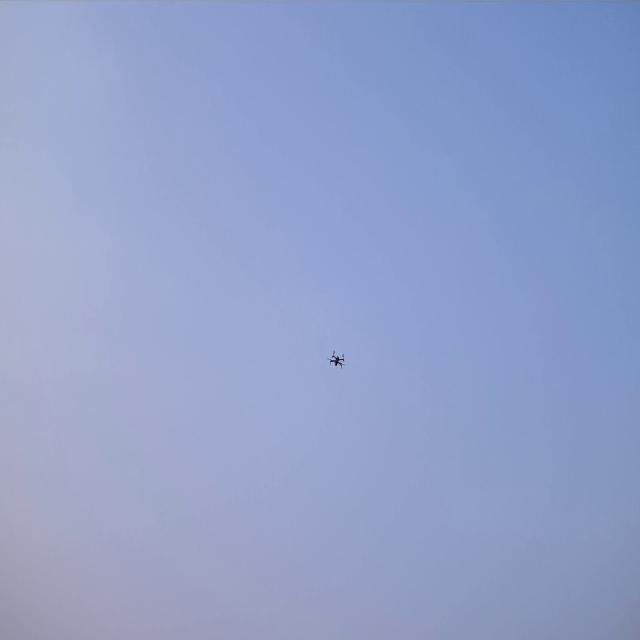UAV: (326, 348, 346, 369)
